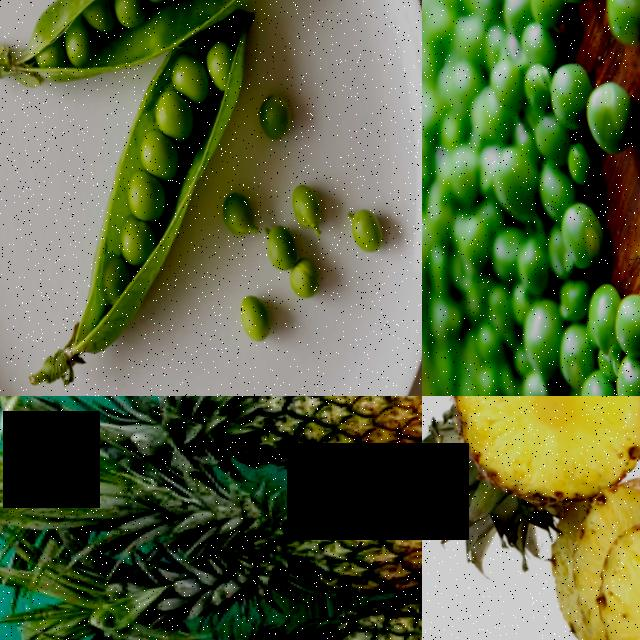peas: (435, 0, 640, 396), (61, 37, 270, 308), (33, 0, 295, 69)
pineapple: (200, 453, 422, 620), (422, 396, 640, 519), (146, 396, 422, 492), (227, 587, 422, 640)
